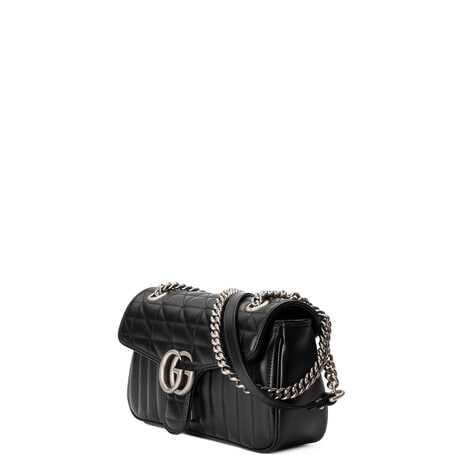Gucci: (116, 273, 329, 438), (157, 340, 205, 402)
